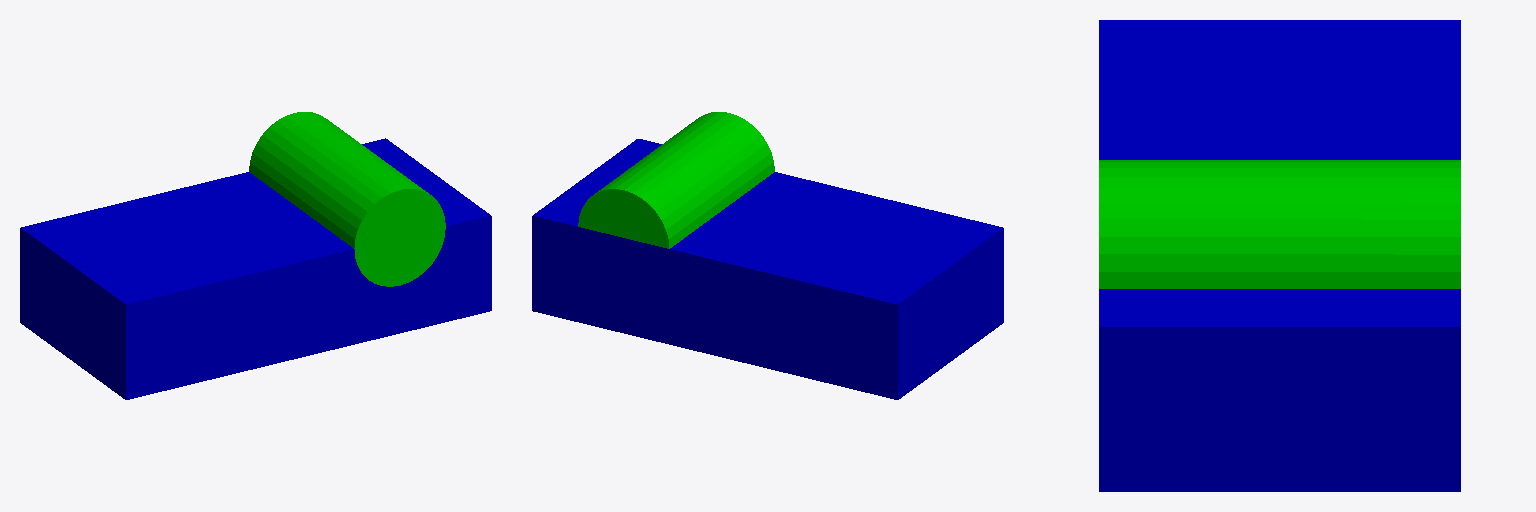
URDF robot description (car):
<?xml version="1.0"?>
<robot name="car">
    <link name="base_link">
        <visual>
            <geometry>
                <box size="4.0 2.0 1.0"/>
            </geometry>
            <material name="blue">
                <color rgba="0 0 .8 1"/>
            </material>
        </visual>
    </link>

    <link name="wheel_1">
        <visual>
            <geometry>
                <cylinder length="2.0" radius="0.5"/>
            </geometry>
            <material name="green">
                <color rgba="0 .8 0 1"/>
            </material>
            <origin rpy="1.57 0.0 0.0"/>
        </visual>
    </link>

    <joint name="base_link_to_wheel_1" type="continuous">
        <parent link="base_link"/>
        <child link="wheel_1"/>
        <axis xyz="0.0 1.0 0.0"/>
        <origin xyz="1.0 0.0 0.5" rpy="0.0 0.0 0.0"/>
    </joint>
</robot>

--- Facts derived from the render (not from the file) ---
Views: 3 orthographic renders of the robot side by side, from view 1: azimuth 30°, elevation 25°; view 2: azimuth 150°, elevation 25°; view 3: azimuth 270°, elevation 25°.
Model car with 2 links and 1 joints (1 continuous), rooted at base_link, posed all joints at 0.
Links seen in each view (by area): view 1: base_link, wheel_1; view 2: base_link, wheel_1; view 3: base_link, wheel_1.
Link boxes in pixels (x1,y1,x2,y2): base_link: (20, 138, 491, 399); wheel_1: (249, 112, 445, 286); base_link: (532, 139, 1003, 399); wheel_1: (578, 112, 774, 248); base_link: (1099, 20, 1460, 491); wheel_1: (1099, 160, 1460, 288).
Size in the robot's own frame: 4 by 2 by 1.5 metres.
Geometry: primitives only (box / cylinder / sphere), no mesh files.